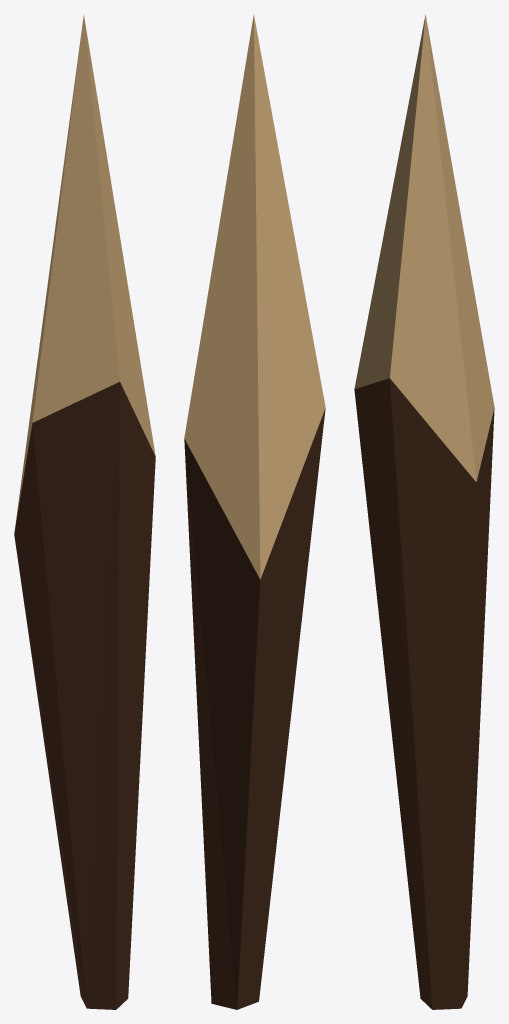
File: WoodenSpike_6.fbx
3 renders of one model, left to right at view 1: azimuth 30°, elevation 25°; view 2: azimuth 150°, elevation 25°; view 3: azimuth 330°, elevation 25°, orthographic.
Parts seen in each view (by area): view 1: WoodenSpike_6; view 2: WoodenSpike_6; view 3: WoodenSpike_6.
Boxes of the visible parts, left/top/right/bottom form: WoodenSpike_6: left=14, top=14, right=155, bottom=1009; WoodenSpike_6: left=184, top=14, right=325, bottom=1009; WoodenSpike_6: left=354, top=15, right=494, bottom=1009.
Bounding box in the file's own units: 10.56 × 81.15 × 10.04.
